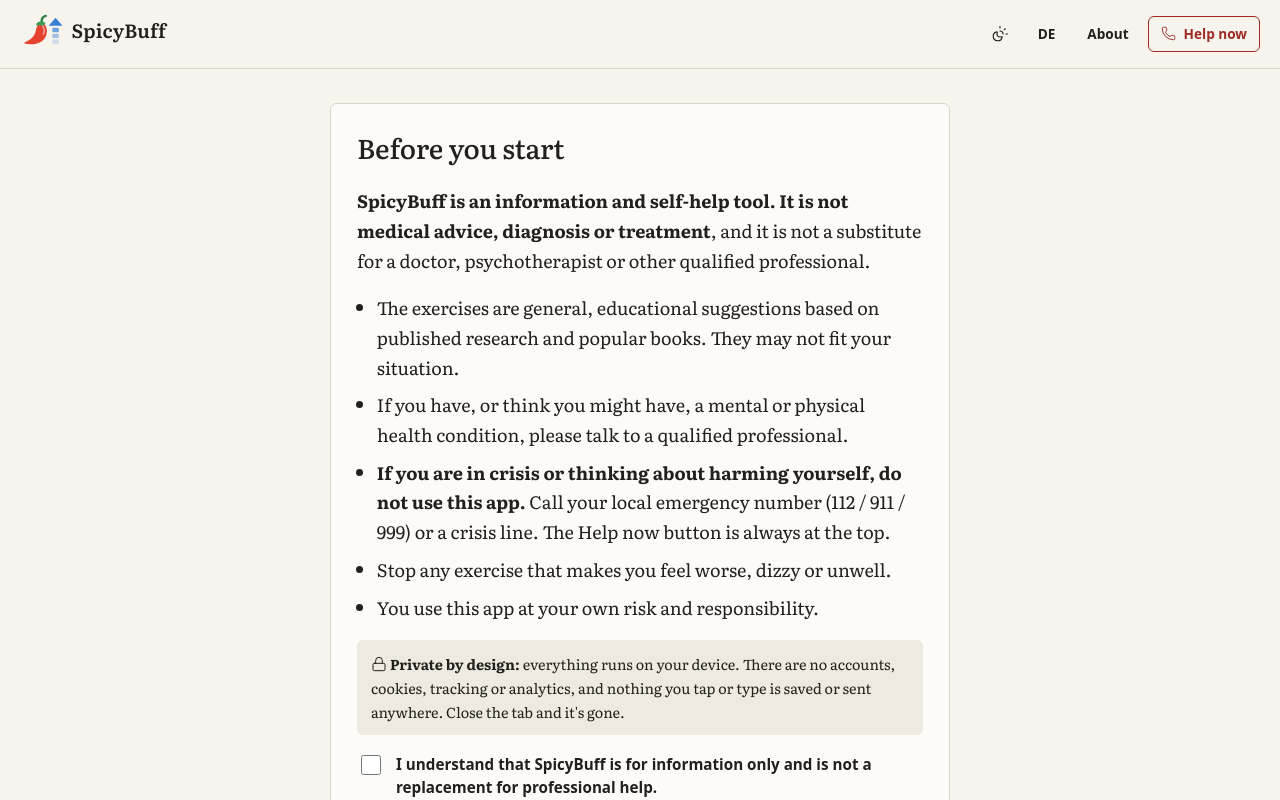
blocks the app until acknowledged, and returns on every load
Later steps or results of the test are not shown.
Expected: the heading "Before you start" is shown, [357,127,564,167]
Expected: the text "SpicyBuff is an information and self-help tool. It is not medical advice, diagnosis or treatment" is shown, [357,187,848,244]
Click the checkbox named "I understand that SpicyBuff is for information only and is not a replacement for professional help." at (371, 766), box [361,756,381,776]
(page scrolled)
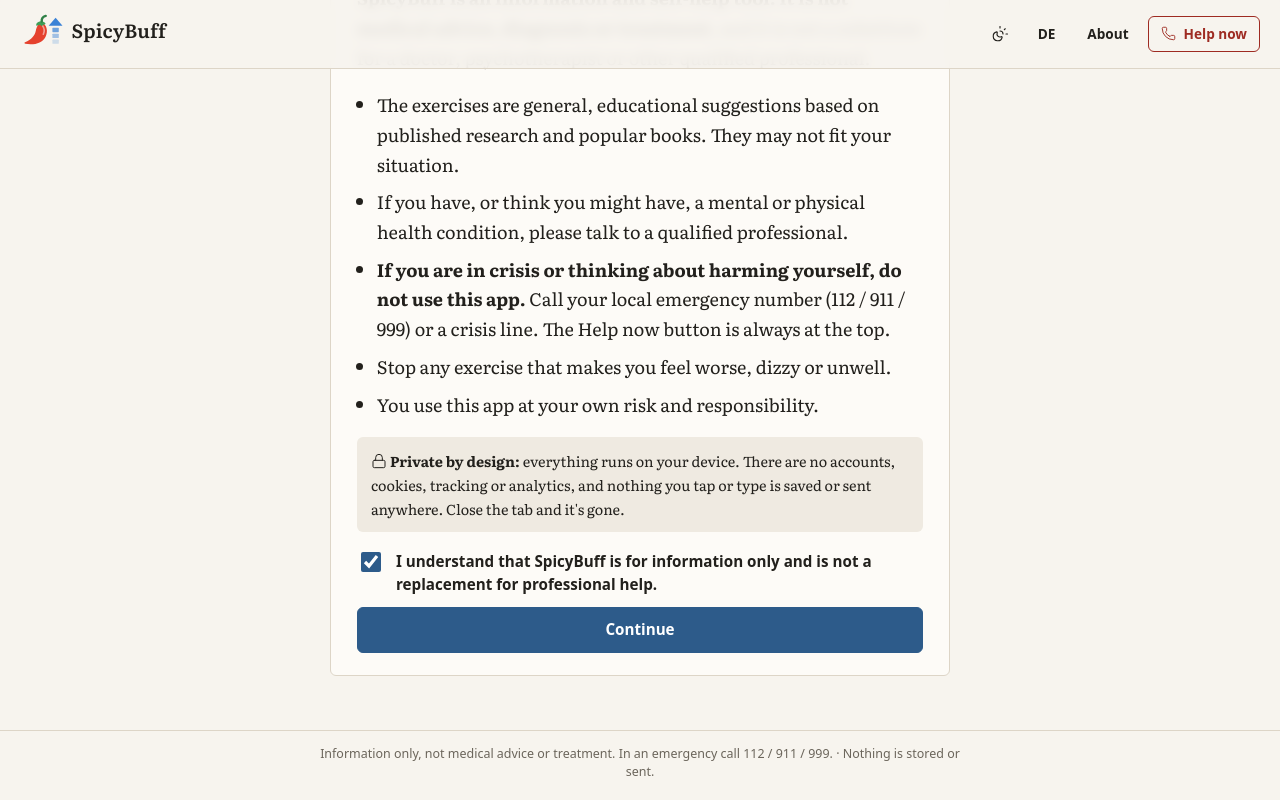
Expected: the button "Continue" is enabled
Click the button "Continue" at (640, 630), box [357,606,923,652]
(page scrolled)
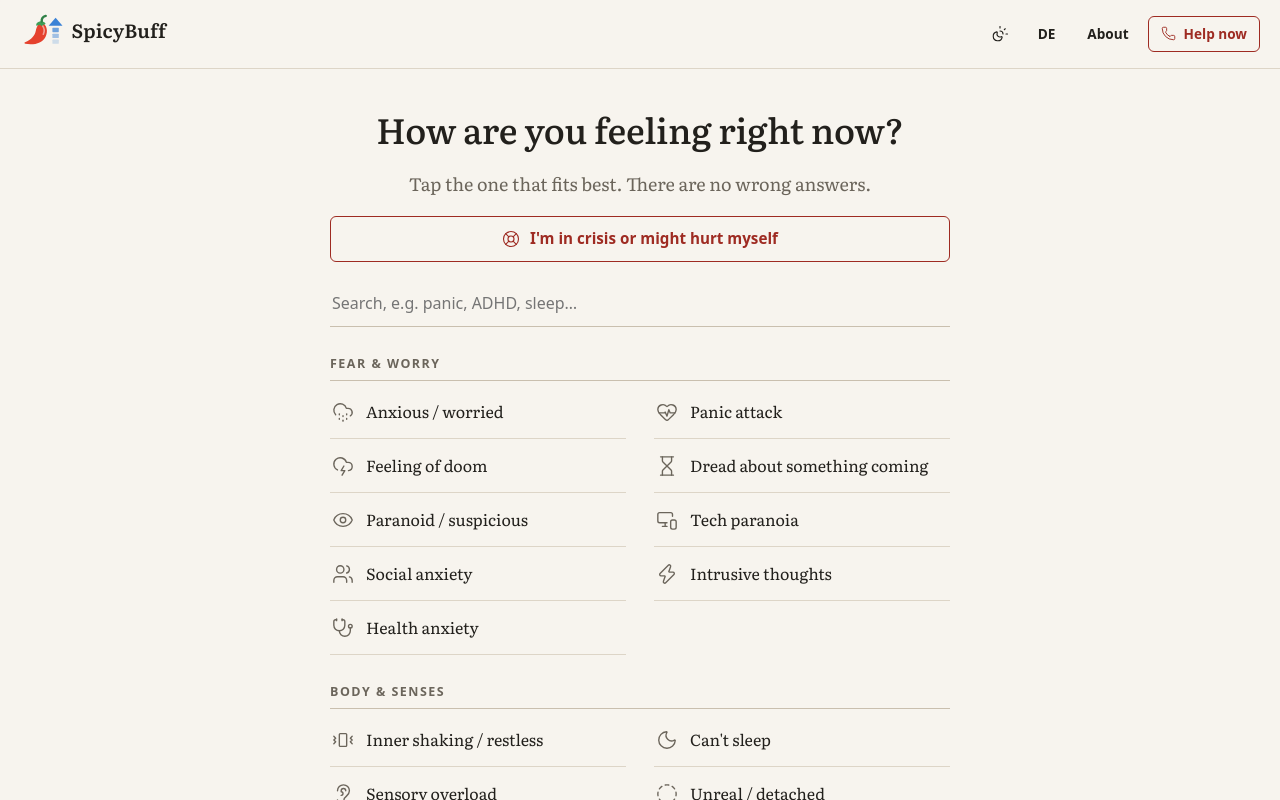
Expected: the heading "How are you feeling right now?" is shown, [330,107,950,151]
